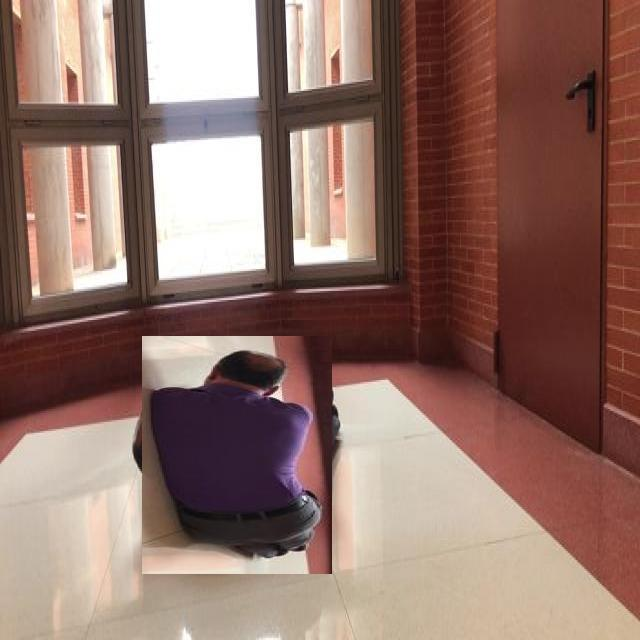Fall: (146, 339, 329, 572)
